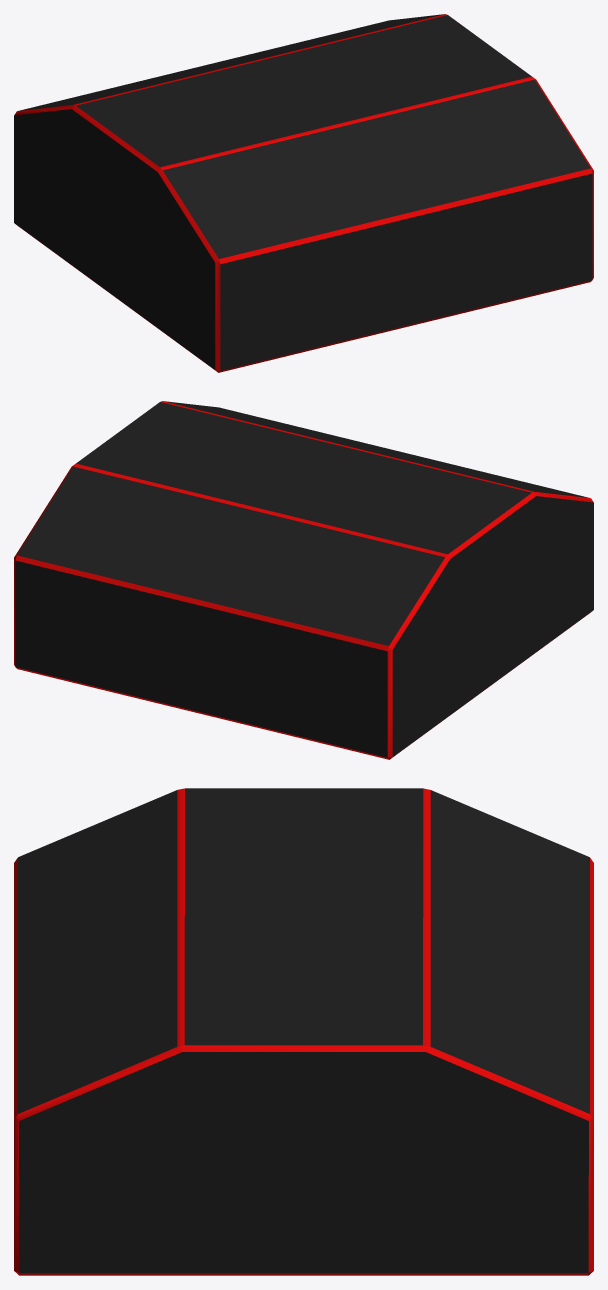
File: control_panel.fbx
3 views of the same model, one above another, from view 1: azimuth 30°, elevation 25°; view 2: azimuth 150°, elevation 25°; view 3: azimuth 270°, elevation 25° (orthographic). The views are drawn at different scales.
Visible parts, largest first — view 1: pCube2; view 2: pCube2; view 3: pCube2.
Boxes of the visible parts, x1=… form: pCube2: x1=14, y1=14, x2=593, y2=372; pCube2: x1=14, y1=401, x2=593, y2=759; pCube2: x1=14, y1=788, x2=593, y2=1275.
Bounding box in the file's own units: 100 × 41.07 × 93.76.
